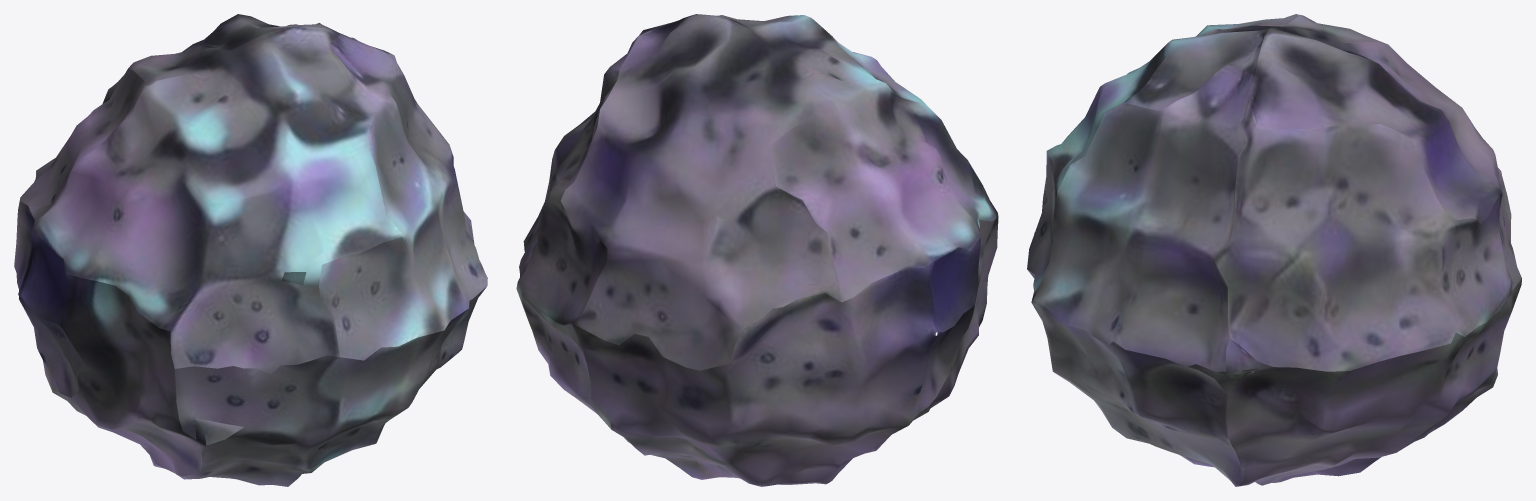
File: titanium.glb
3 renders of one model, left to right at view 1: azimuth 30°, elevation 25°; view 2: azimuth 150°, elevation 25°; view 3: azimuth 270°, elevation 25°, orthographic. The views are drawn at different scales.
Visible parts, largest first — view 1: titanium; view 2: titanium; view 3: titanium.
Boxes of the visible parts, x1,y1,x2,y2 form: titanium: (14,14,487,486); titanium: (516,14,998,486); titanium: (1027,14,1521,486).
Bounding box in the file's own units: 0.9889 × 1 × 0.9915.
Materials: 1 (1 with a texture image).
